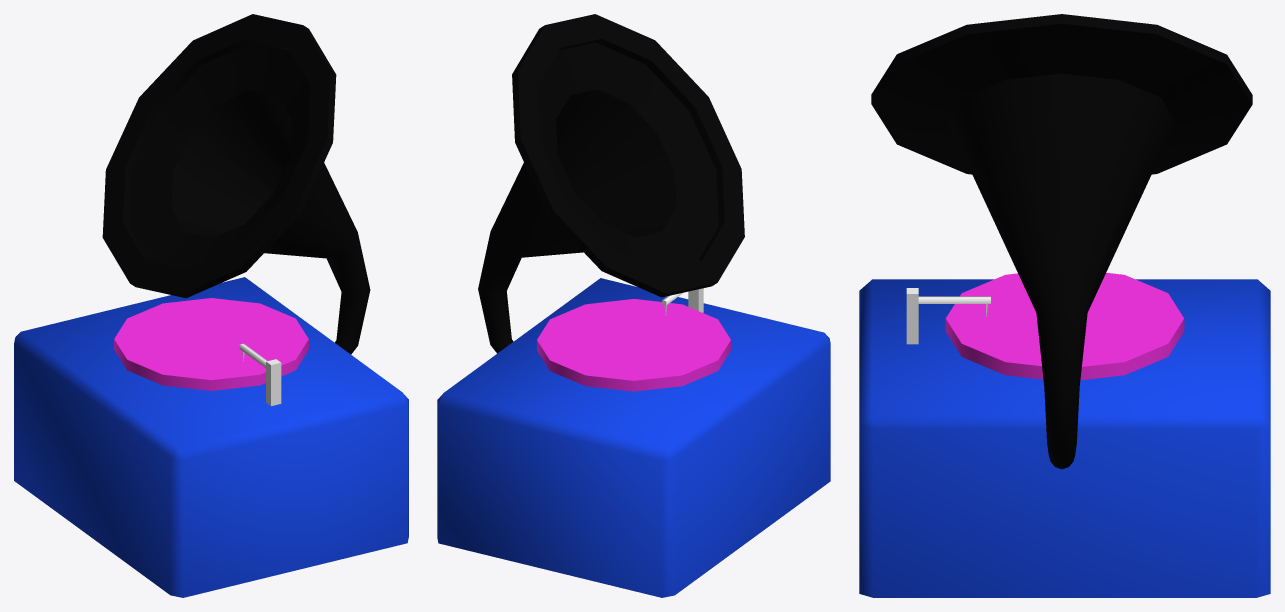
File: may nghe nhac co dien.FBX
3 renders of one model, left to right at view 1: azimuth 30°, elevation 25°; view 2: azimuth 150°, elevation 25°; view 3: azimuth 270°, elevation 25°, orthographic. The views are drawn at different scales.
Parts seen in each view (by area): view 1: Box1179; view 2: Box1179; view 3: Box1179.
Boxes of the visible parts, x1,y1,x2,y2 form: Box1179: (14, 14, 408, 597); Box1179: (437, 14, 830, 597); Box1179: (859, 14, 1270, 597).
Bounding box in the file's own units: 1.42 × 2.29 × 1.51.
